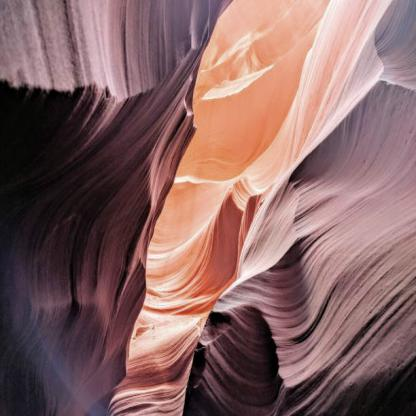Sedimentary_Sandstone: (202, 289, 416, 415), (0, 6, 224, 124), (2, 244, 146, 415), (0, 132, 193, 236), (236, 194, 416, 288), (278, 101, 416, 193)
